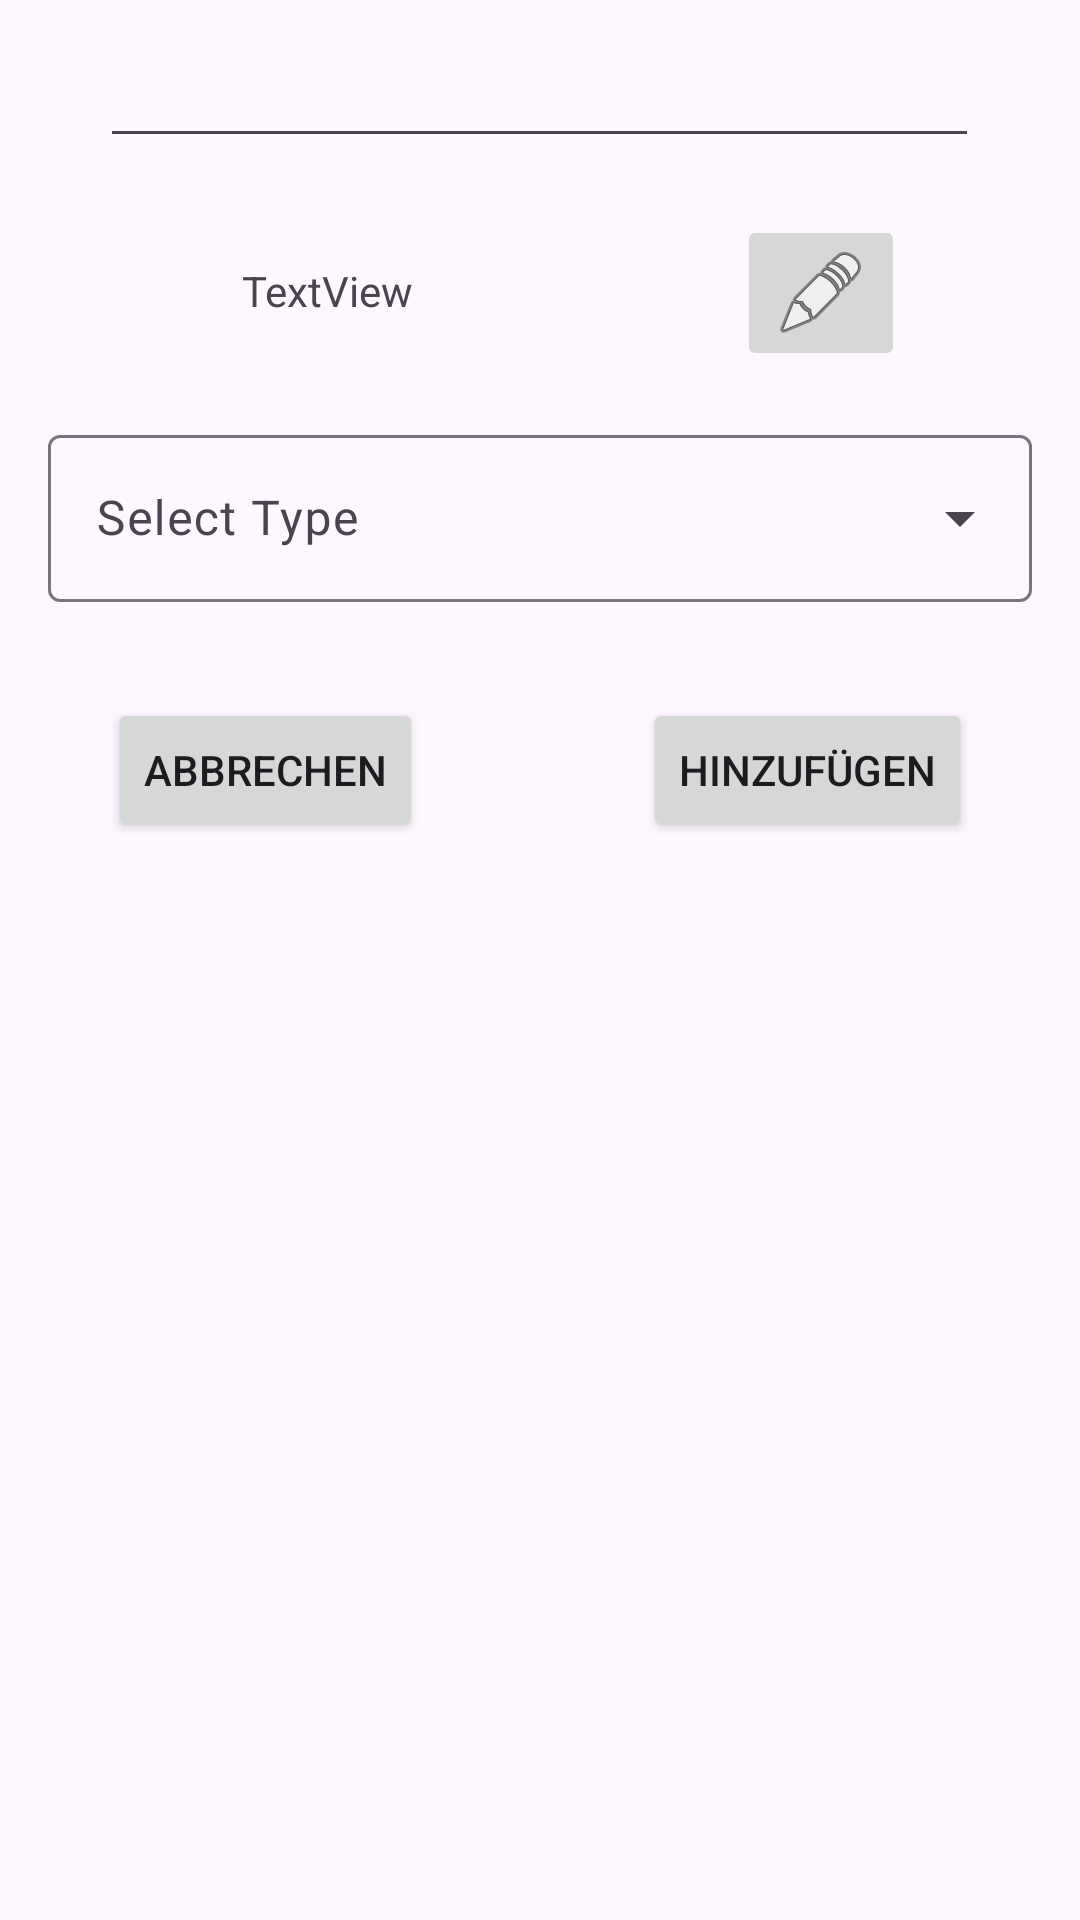

Screen size 1080×1920. Icon name, then its box in pixels as Rect(x1, y1, x2, y2):
edit: Rect(749, 233, 893, 353)
